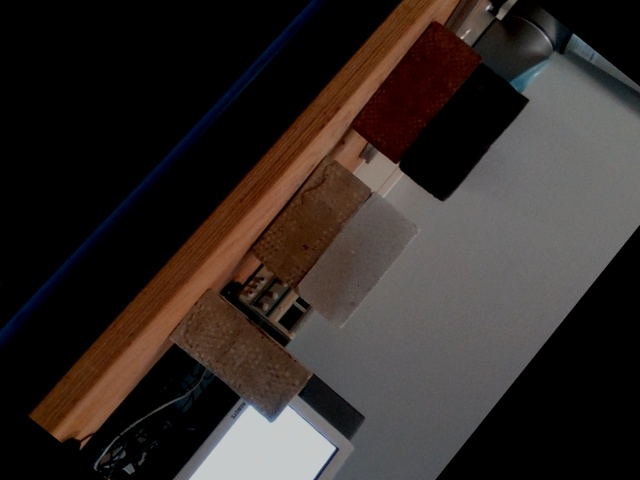brick: (168, 292, 308, 421), (350, 22, 477, 162), (398, 64, 523, 202), (293, 193, 416, 327), (252, 156, 368, 285)
